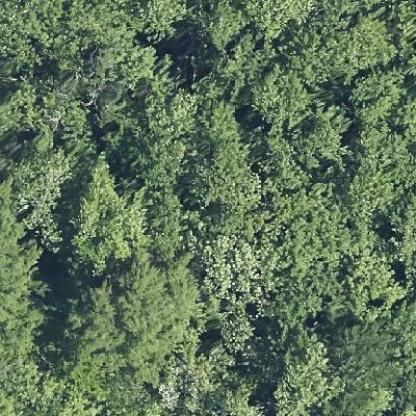tree-top: (61, 265, 200, 370), (62, 154, 155, 269), (267, 325, 342, 415), (249, 67, 311, 127)
